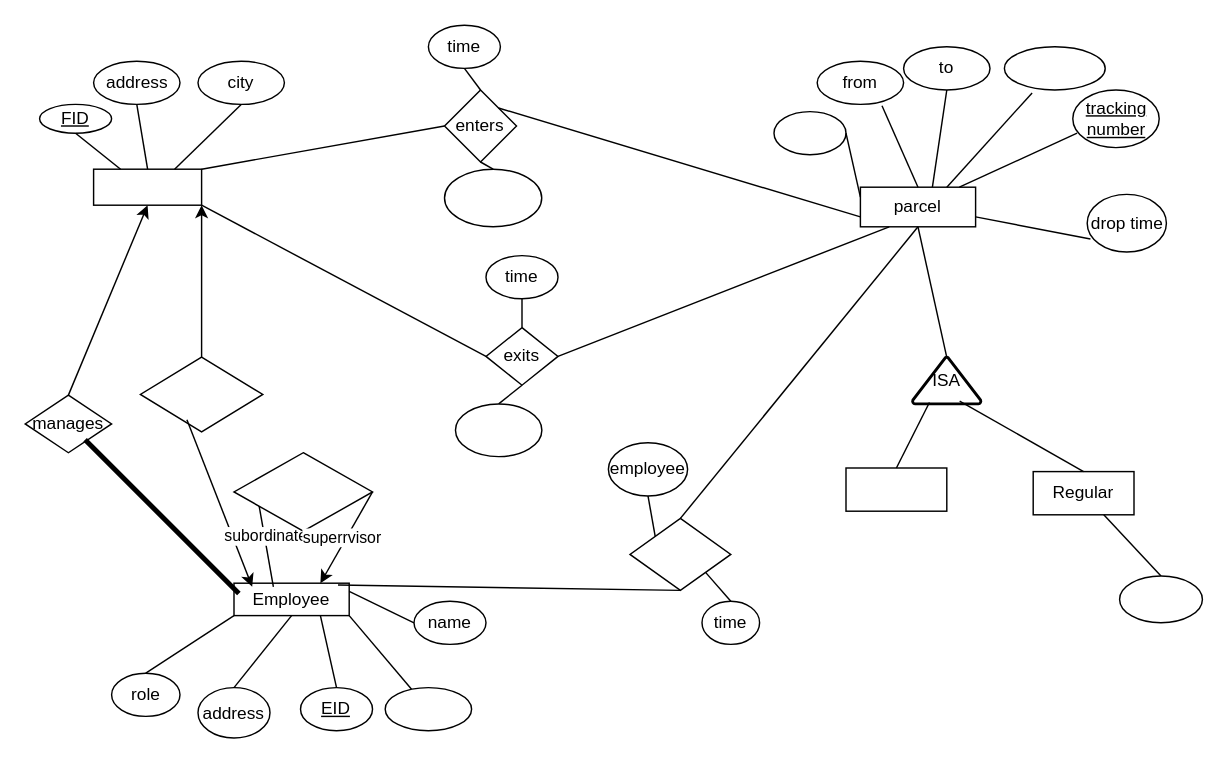
Image size: 1228x763. Some labels were removed from this diagram. The centre of each missing label's shape, as x and y in pixels:
barcode: [1160,599]
delivery: [680,553]
employed_in: [201,394]
Expedited: [896,489]
facility: [147,186]
facility name: [428,708]
list of goods: [1054,67]
next destination: [492,197]
supervises: [303,491]
transportation type: [498,429]
weight: [809,132]
